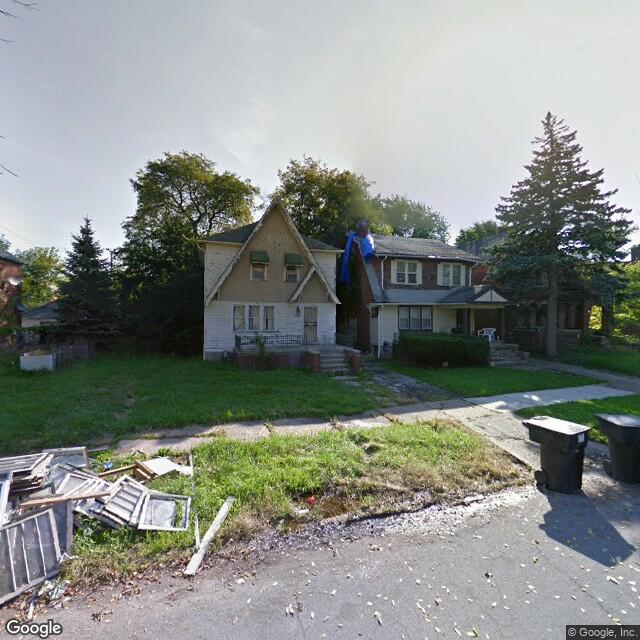litter: (1, 446, 246, 610), (307, 494, 317, 509)
